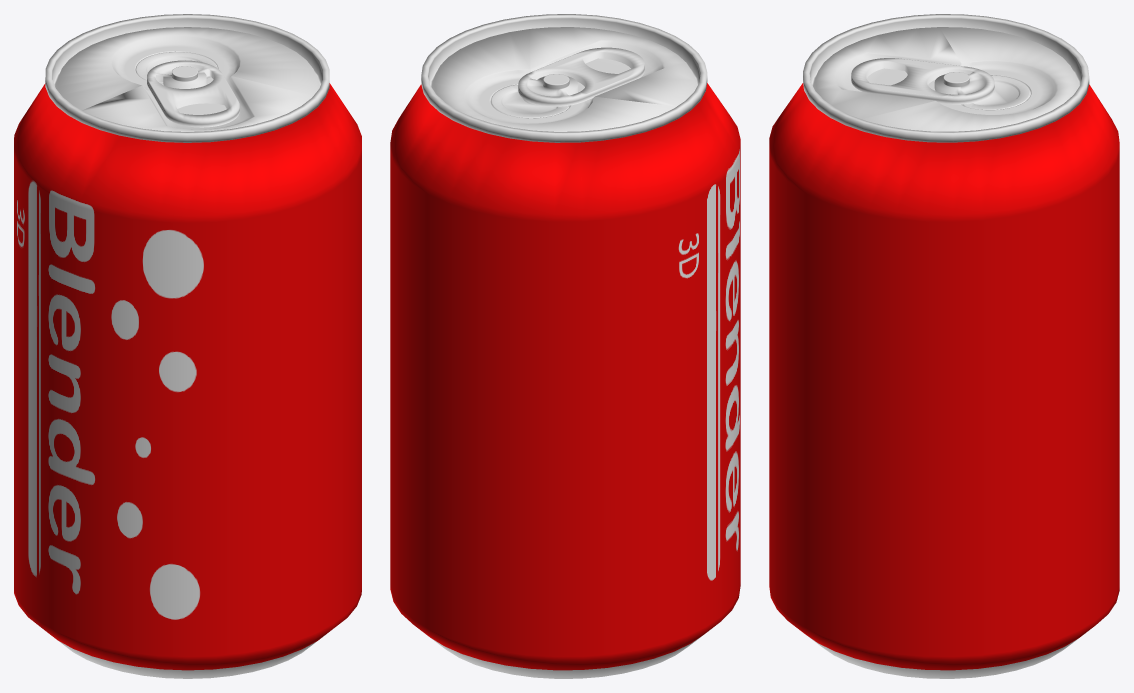
The model's file is blender.glb.
The picture shows the model from 3 angles, left to right: view 1: azimuth 30°, elevation 25°; view 2: azimuth 150°, elevation 25°; view 3: azimuth 270°, elevation 25°; orthographic projection.
Visible parts, largest first — view 1: Tölkki, korkki; view 2: Tölkki, korkki; view 3: Tölkki, korkki.
Boxes of the visible parts, bbox=[...] form: Tölkki: bbox=[14, 14, 361, 678]; korkki: bbox=[147, 60, 239, 127]; Tölkki: bbox=[390, 14, 740, 678]; korkki: bbox=[518, 47, 644, 106]; Tölkki: bbox=[769, 14, 1119, 678]; korkki: bbox=[851, 58, 994, 104].
Bounding box in the file's own units: 6.79 × 11.74 × 6.82.
2 materials, 1 textured.
